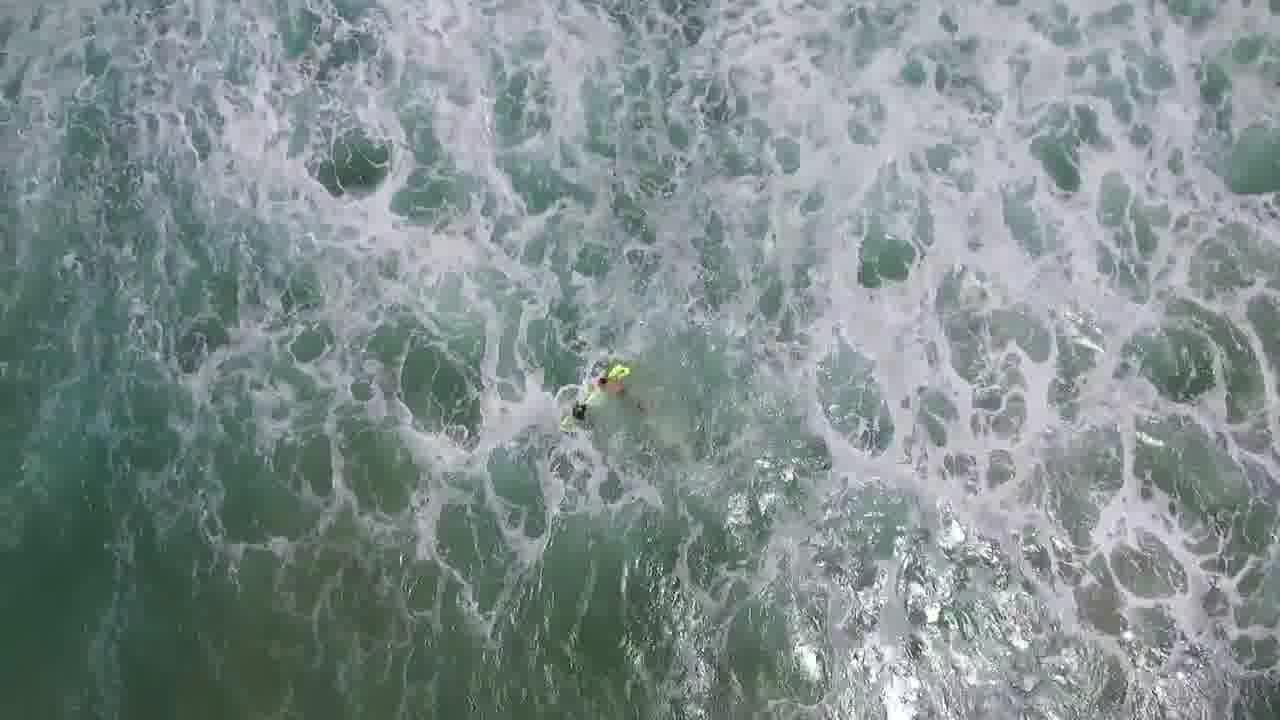swimmer: (562, 395, 589, 419)
